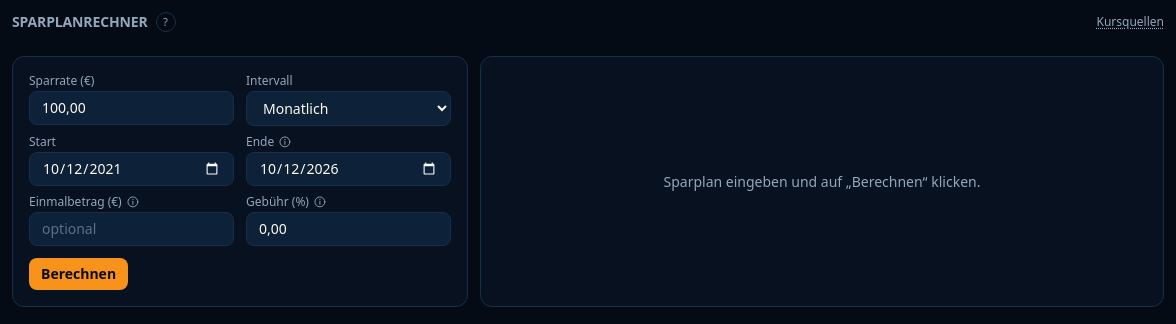
Test case: savings plan calculator › refuses a start date before the price data and fetches nothing
The width and height of the screenshot is (1176, 324).
Type "2015-01-01" into the date field labelled "Start" at [132, 169], box [29, 152, 234, 186]
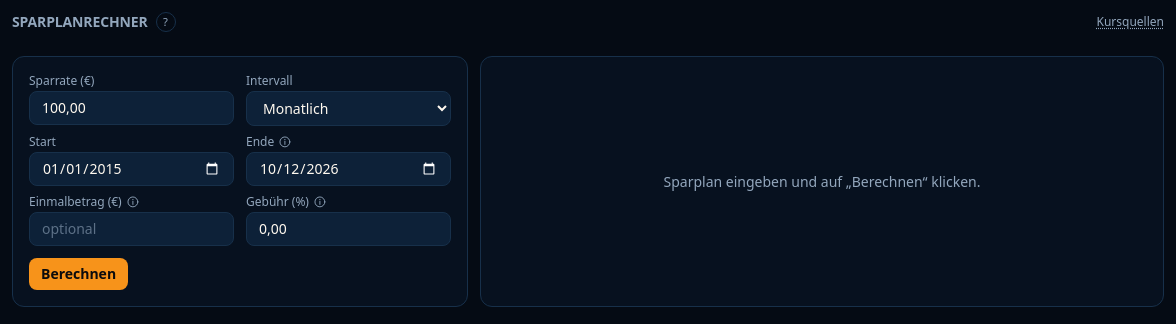
Click the button "Berechnen" at [79, 274], box [29, 258, 128, 290]
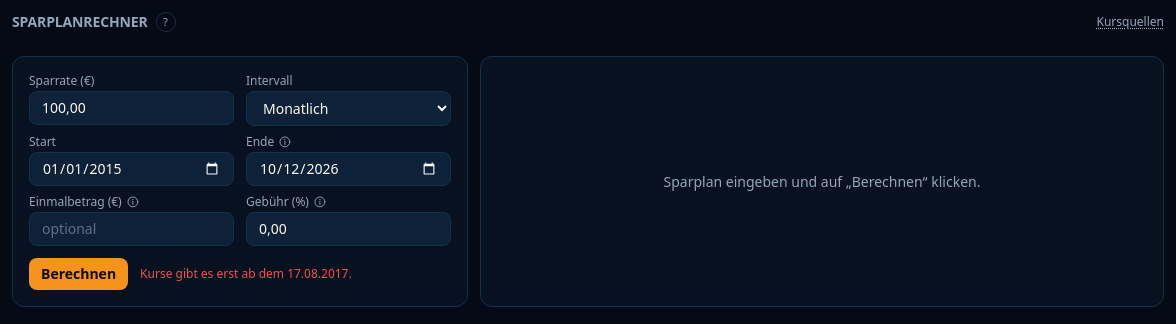
Result: the message shows "17.08.2017" at [140, 265, 352, 282]
